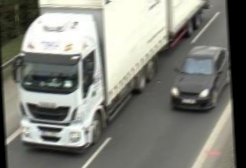truck: (14, 0, 222, 154)
